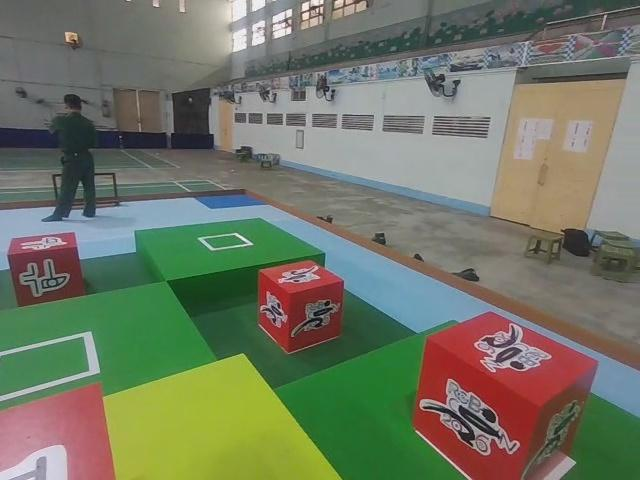R1: (411, 311, 600, 480), (257, 258, 346, 356)
R2 Real: (7, 228, 87, 308)
